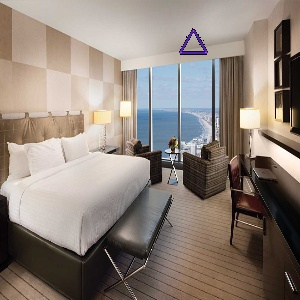triangle: (177, 28, 209, 57)
